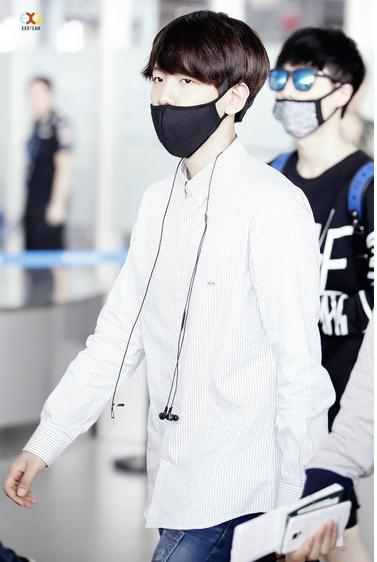WRONG: (151, 59, 249, 157), (273, 66, 349, 137)
